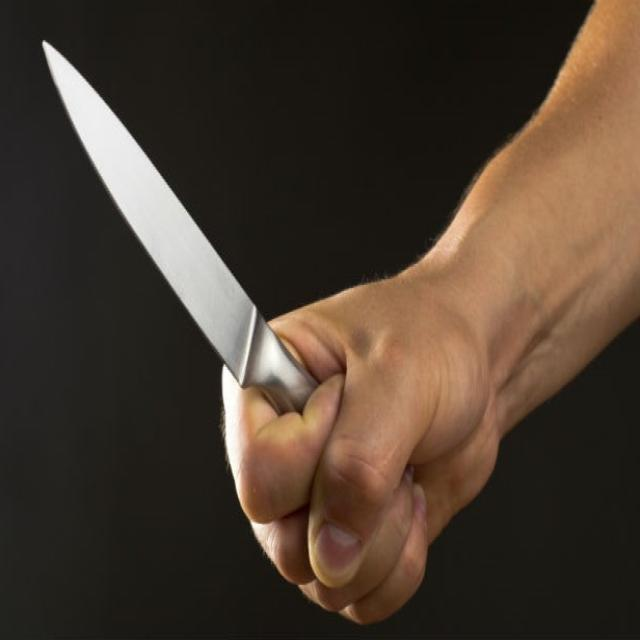knife: (39, 32, 314, 420)
